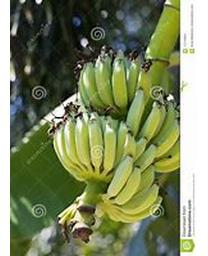banana: (50, 48, 181, 226)
